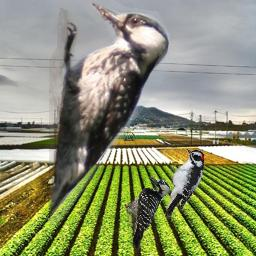Woodpecker: (49, 0, 170, 226), (125, 176, 171, 251), (164, 148, 204, 219)
